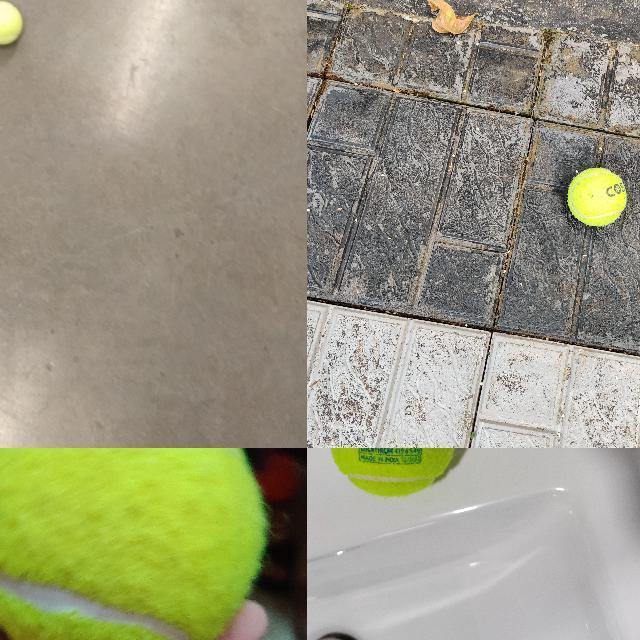tennis-ball: (0, 448, 263, 639), (328, 448, 457, 499), (566, 166, 627, 227), (0, 0, 23, 45)
